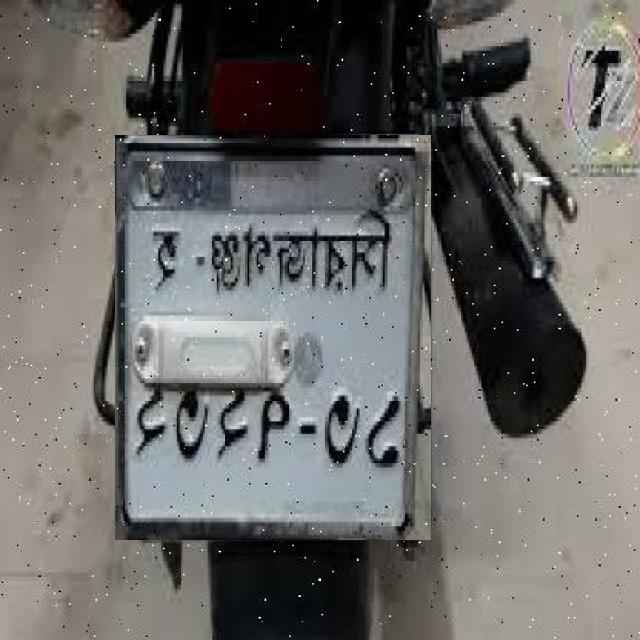numberplate: (115, 135, 431, 540)
